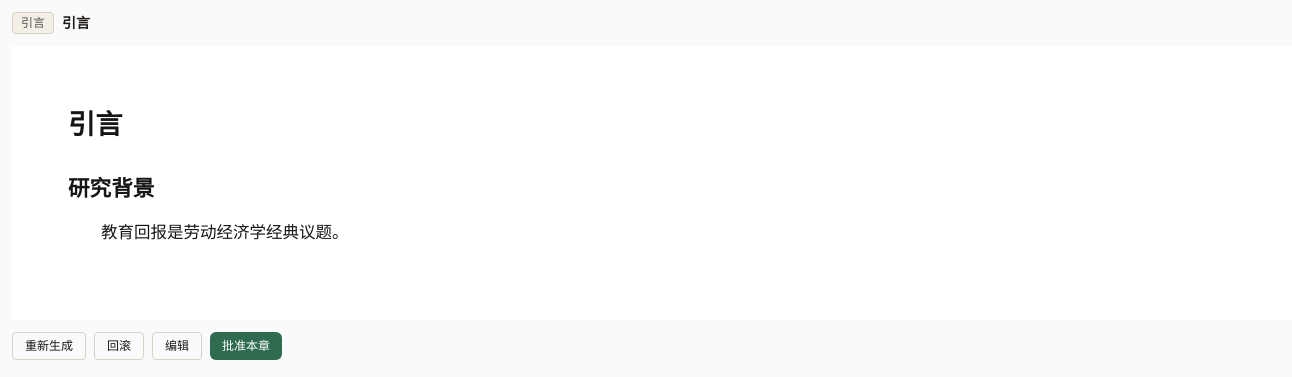
Scenario: ChapterWriter T-08c 扩展：4 按钮 + 回滚 + 编辑模式 › 点击"编辑"进入编辑模式（显示"保存"按钮）
Click the button "编辑" at (177, 346), box [152,332,202,360]
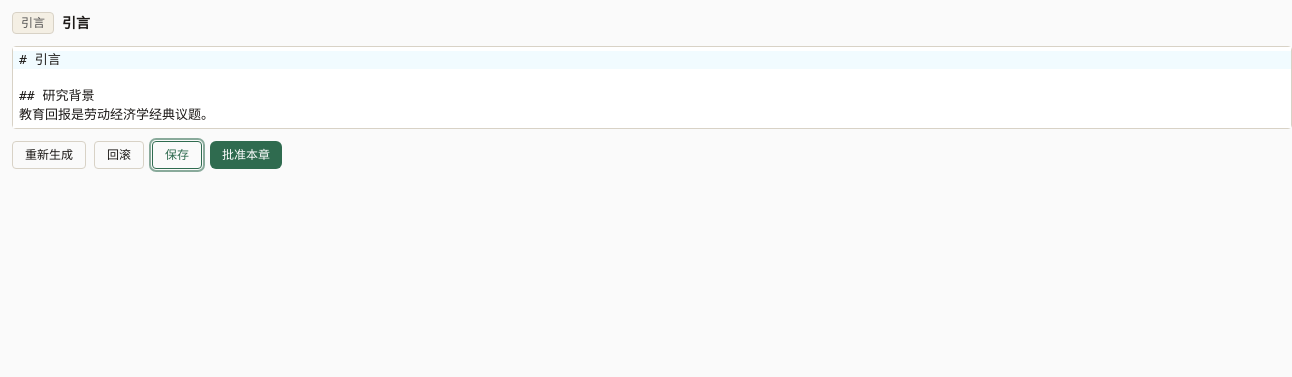
Check: the button "保存" is shown, box [152,141,202,169]
